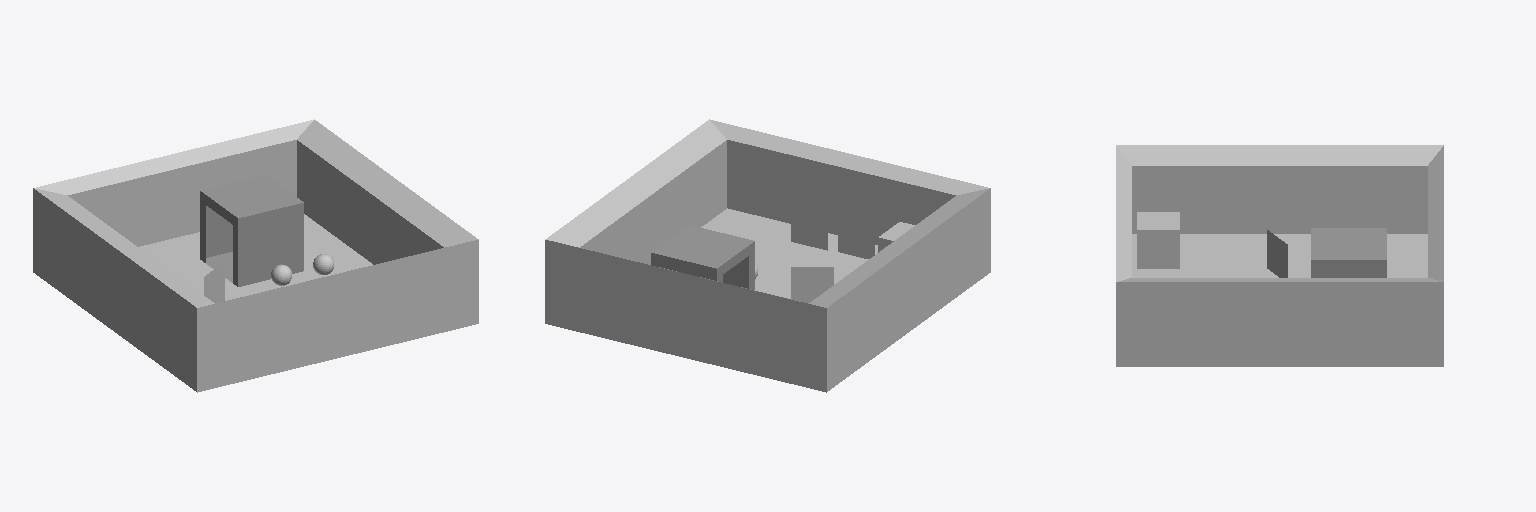
File: casa.obj
3 views of the same model, side by side, from view 1: azimuth 30°, elevation 25°; view 2: azimuth 150°, elevation 25°; view 3: azimuth 270°, elevation 25° (orthographic).
Visible parts, largest first — view 1: Cube_Cube.003, Cube.001_Cube.005, Plane.002; view 2: Cube_Cube.003, Cube.001_Cube.005, Plane, Plane.001, Plane.002; view 3: Cube_Cube.003, Cube.001_Cube.005, Cube.002_Cube.006, Plane.002.
Boxes of the visible parts, <box> form: Cube_Cube.003: <box>33,119,478,392</box>; Cube.001_Cube.005: <box>200,175,303,286</box>; Plane.002: <box>204,262,224,303</box>; Cube_Cube.003: <box>545,119,990,392</box>; Cube.001_Cube.005: <box>651,225,754,289</box>; Plane: <box>791,203,827,250</box>; Plane.001: <box>838,213,874,258</box>; Plane.002: <box>791,267,833,303</box>; Cube_Cube.003: <box>1116,145,1443,366</box>; Cube.001_Cube.005: <box>1311,228,1386,277</box>; Cube.002_Cube.006: <box>1137,212,1179,268</box>; Plane.002: <box>1267,230,1287,277</box>.
Size of the model in its own units: 15.1 by 4.33 by 15.25.